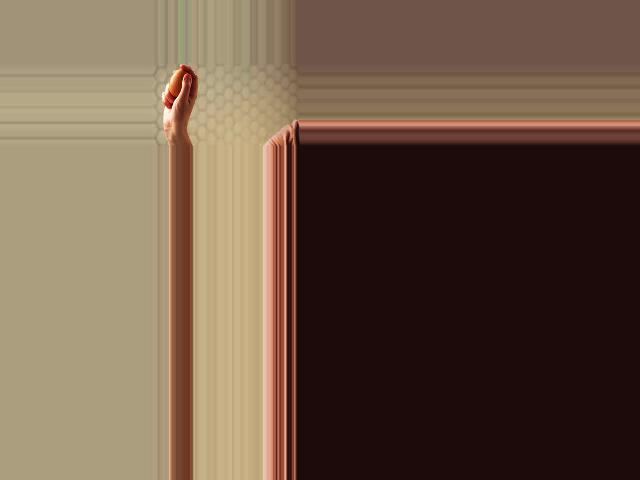egg: (167, 69, 189, 97)
